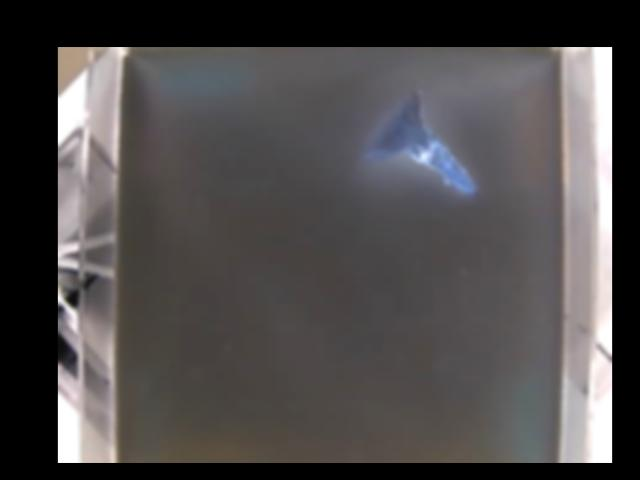Mooli: (361, 86, 477, 198)
